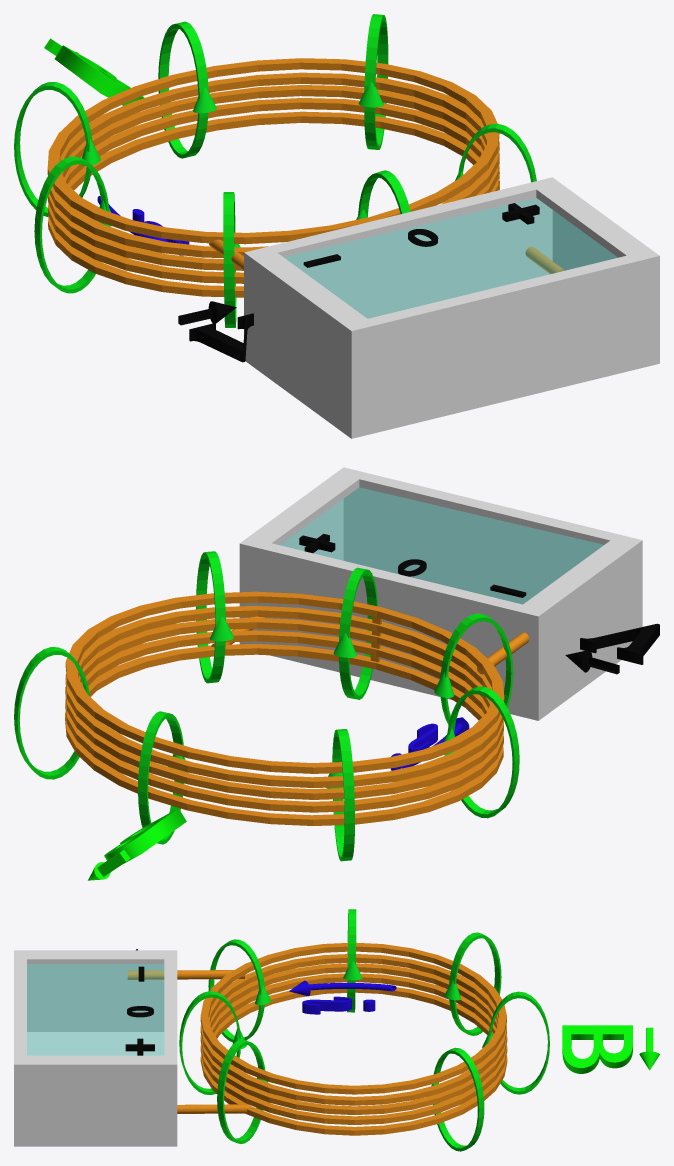
File: multimetro1.dae
3 renders of one model, top to bottom at view 1: azimuth 30°, elevation 25°; view 2: azimuth 150°, elevation 25°; view 3: azimuth 270°, elevation 25°, orthographic. The views are drawn at different scales.
Parts seen in each view (by area): view 1: Cono.010, Cilindro.016, Cilindro.009, Cono.001, Cilindro.007, Cilindro.006, Texto.005, Cilindro.013, Cilindro.002, Cilindro.008; view 2: Cono.010, Cilindro.002, Cilindro.008, Cono.001, Cilindro.007, Texto.005, Cilindro.006, Cilindro.016, Cilindro.013, Cilindro.009, Texto.011; view 3: Cono.010, Texto.005, Cilindro.007, Cilindro.008, Cilindro.009, Cilindro.013, Cilindro.016, Cilindro.002, Cilindro.006, Texto.011, NurbsCurve.
Boxes of the visible parts, x1=… form: Cono.010: x1=47, y1=58, x2=659, y2=438; Cilindro.016: x1=158, y1=21, x2=216, y2=158; Cilindro.009: x1=358, y1=14, x2=388, y2=149; Cono.001: x1=178, y1=301, x2=253, y2=362; Cilindro.007: x1=14, y1=82, x2=100, y2=216; Cilindro.006: x1=34, y1=156, x2=111, y2=293; Texto.005: x1=44, y1=38, x2=144, y2=105; Cilindro.013: x1=223, y1=192, x2=240, y2=327; Cilindro.002: x1=356, y1=170, x2=410, y2=219; Cilindro.008: x1=455, y1=123, x2=536, y2=182; Cono.010: x1=65, y1=467, x2=642, y2=825; Cilindro.002: x1=333, y1=567, x2=377, y2=699; Cilindro.008: x1=196, y1=551, x2=233, y2=683; Cono.001: x1=565, y1=623, x2=659, y2=674; Cilindro.007: x1=326, y1=729, x2=354, y2=861; Texto.005: x1=88, y1=808, x2=186, y2=880; Cilindro.006: x1=443, y1=686, x2=519, y2=818; Cilindro.016: x1=138, y1=711, x2=187, y2=844; Cilindro.013: x1=434, y1=613, x2=513, y2=724; Cilindro.009: x1=14, y1=647, x2=89, y2=779; Texto.011: x1=390, y1=723, x2=437, y2=770; Cono.010: x1=14, y1=942, x2=507, y2=1146; Texto.005: x1=562, y1=1025, x2=659, y2=1073; Cilindro.007: x1=444, y1=932, x2=501, y2=1035; Cilindro.008: x1=217, y1=1039, x2=268, y2=1143; Cilindro.009: x1=431, y1=1047, x2=484, y2=1151; Cilindro.013: x1=208, y1=939, x2=270, y2=1042; Cilindro.016: x1=482, y1=991, x2=549, y2=1094; Cilindro.002: x1=179, y1=991, x2=246, y2=1094; Cilindro.006: x1=343, y1=909, x2=362, y2=1012; Texto.011: x1=302, y1=996, x2=375, y2=1014; NurbsCurve: x1=289, y1=980, x2=396, y2=996.
Bounding box in the file's own units: 1.22 × 2.03 × 0.3487.
